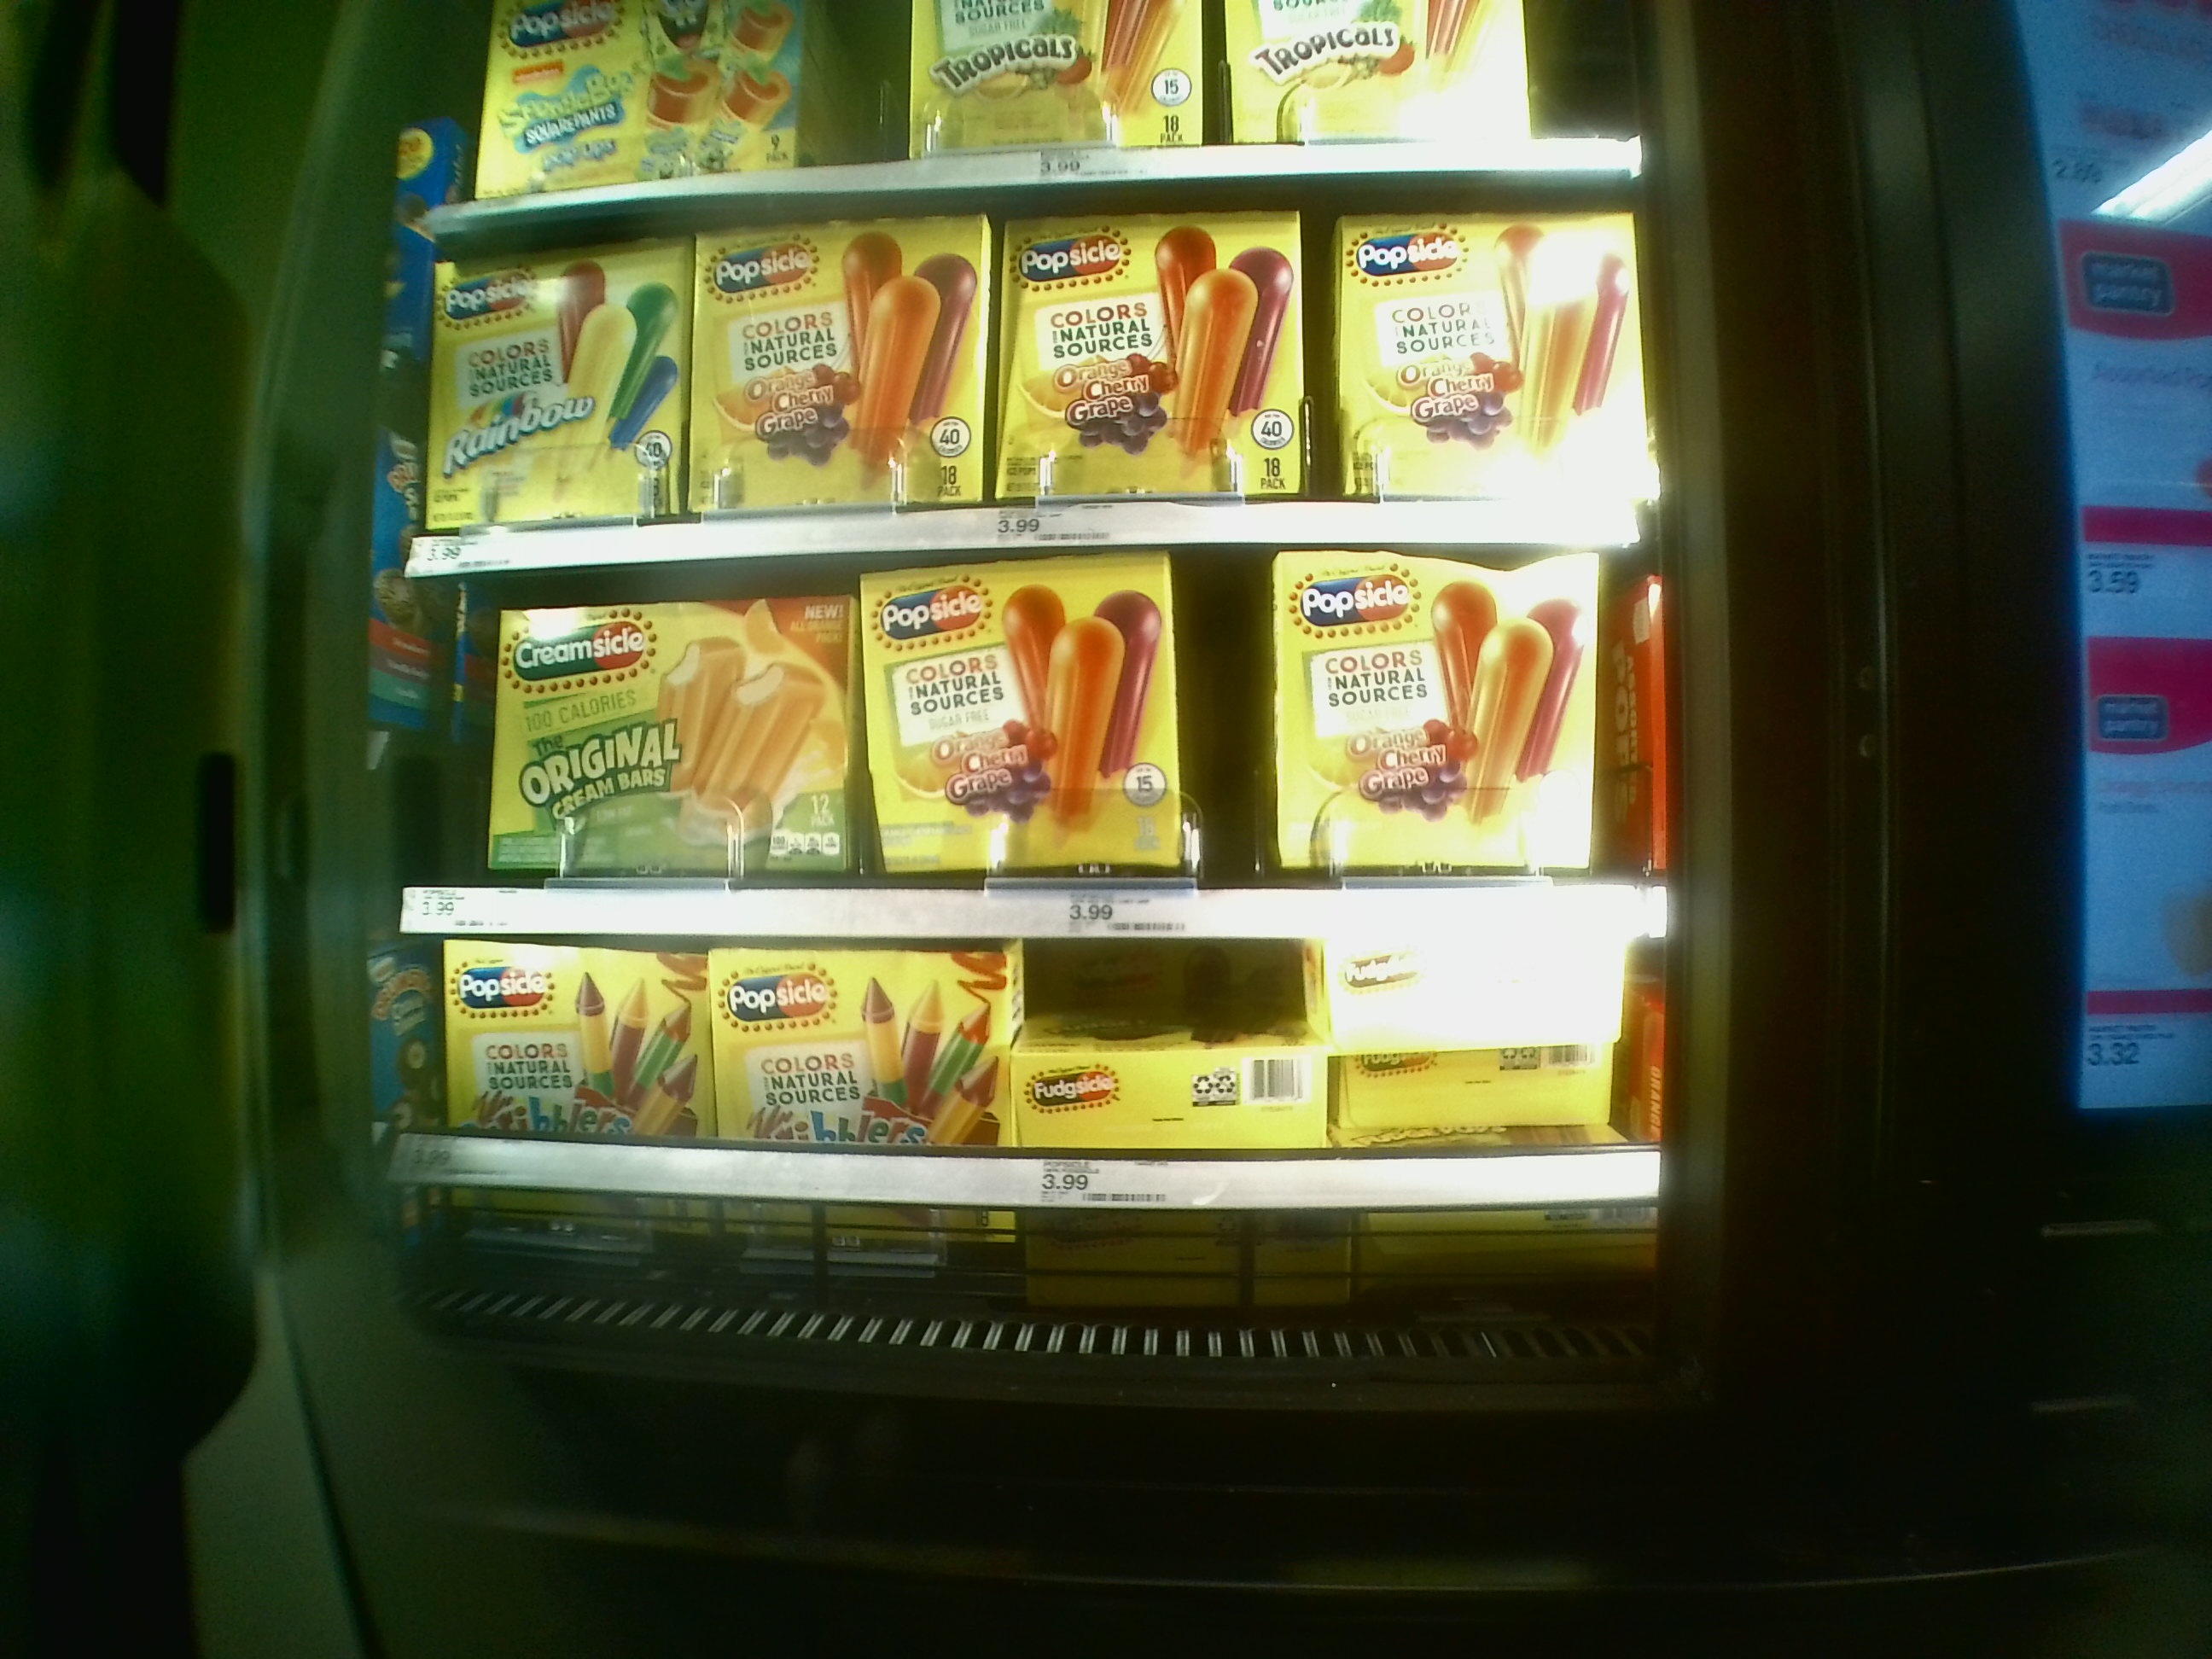shelf: (408, 575, 1656, 924), (402, 927, 1662, 1267), (404, 227, 1658, 559)
